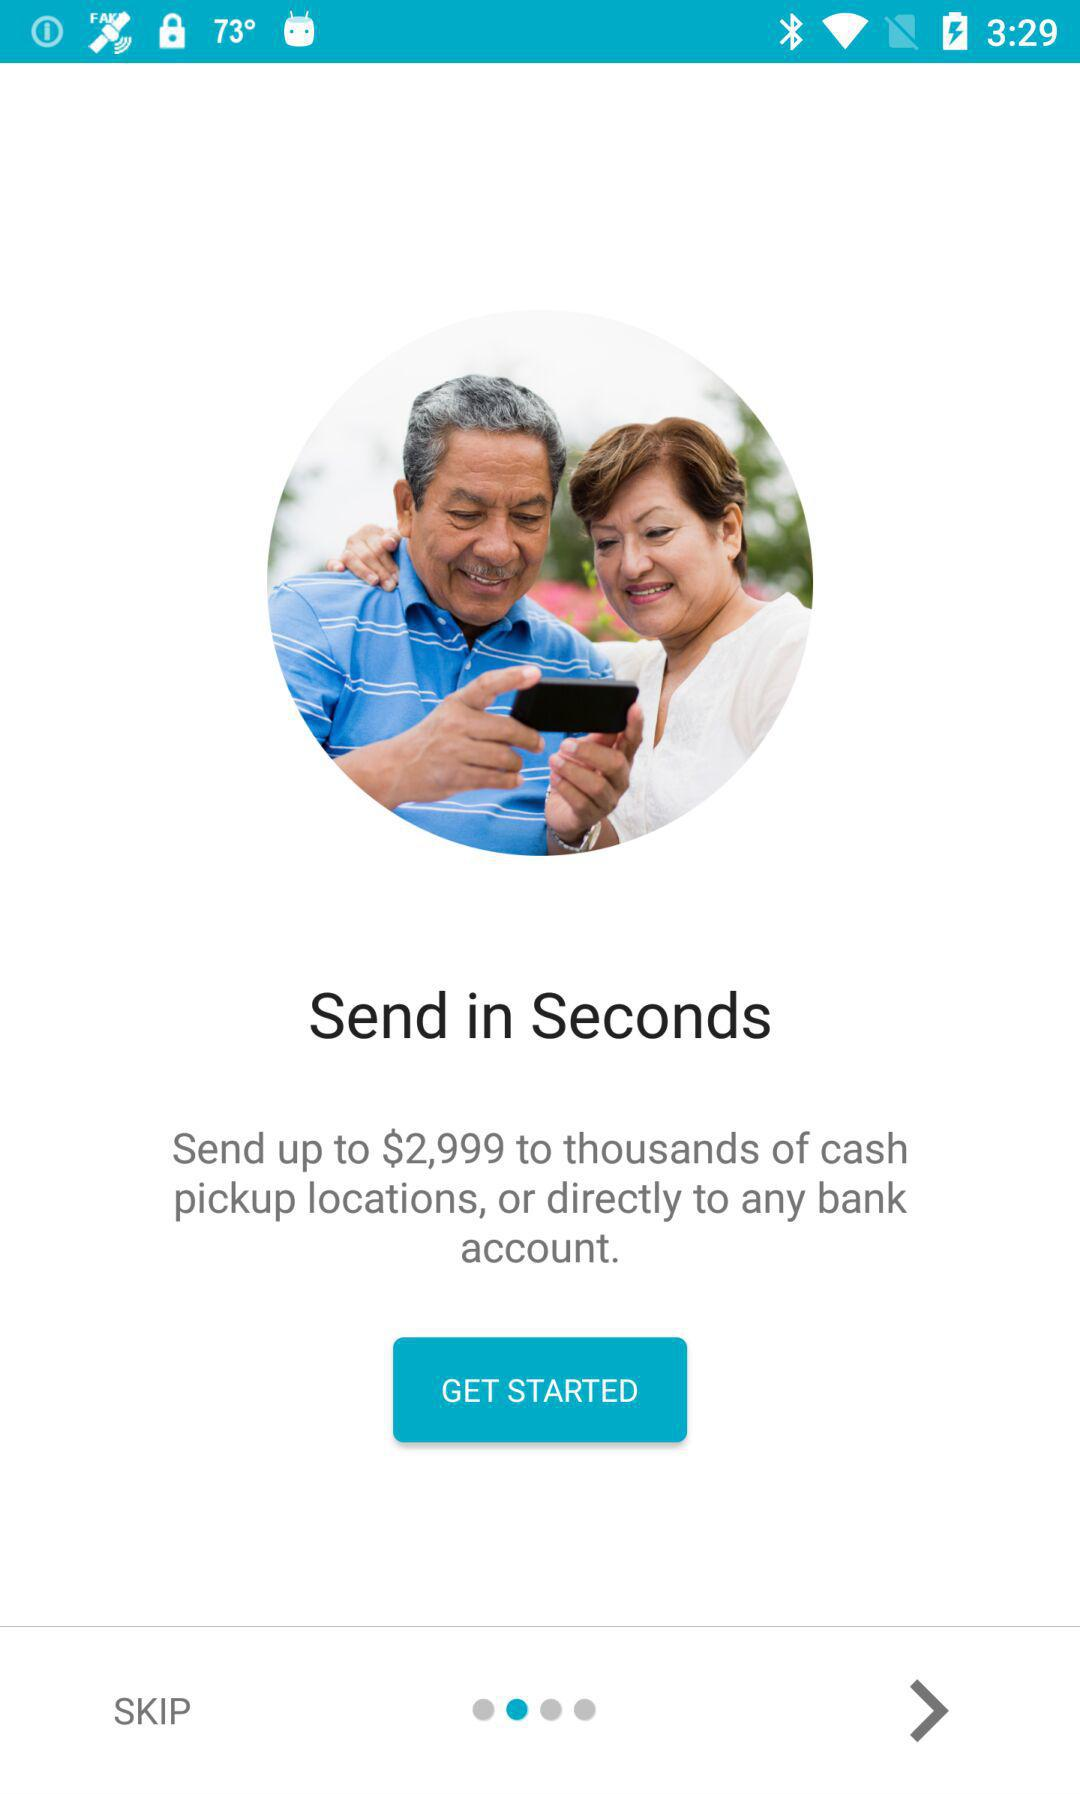Icon: (910, 1677, 951, 1743)
Image: (265, 308, 815, 859)
PageIndicator: (471, 1697, 598, 1722)
Text: (173, 1132, 908, 1265), (310, 991, 773, 1041), (114, 1697, 192, 1726)
TextButton: (393, 1337, 688, 1443)
UpperTaskBar: (1, 1, 1080, 64)
